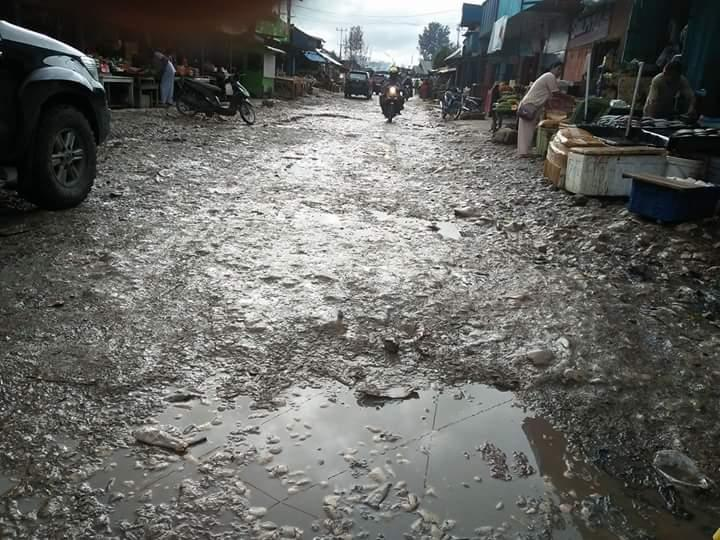Pothole: (119, 352, 719, 540), (401, 189, 530, 270)
